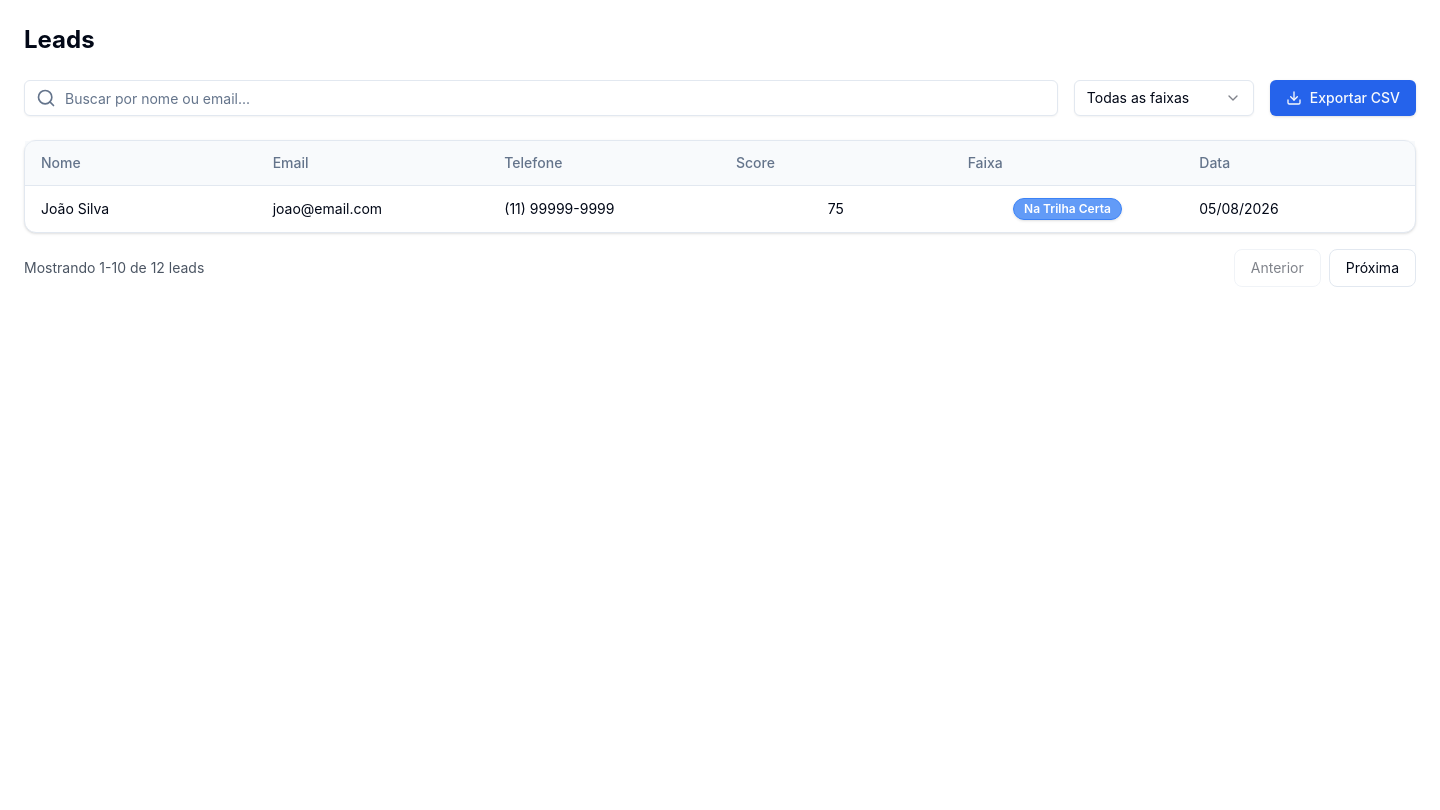
Test: AdminLeads › should open the details modal when a lead row is clicked
Click the text "João Silva": (75, 208) [25,186,257,232]
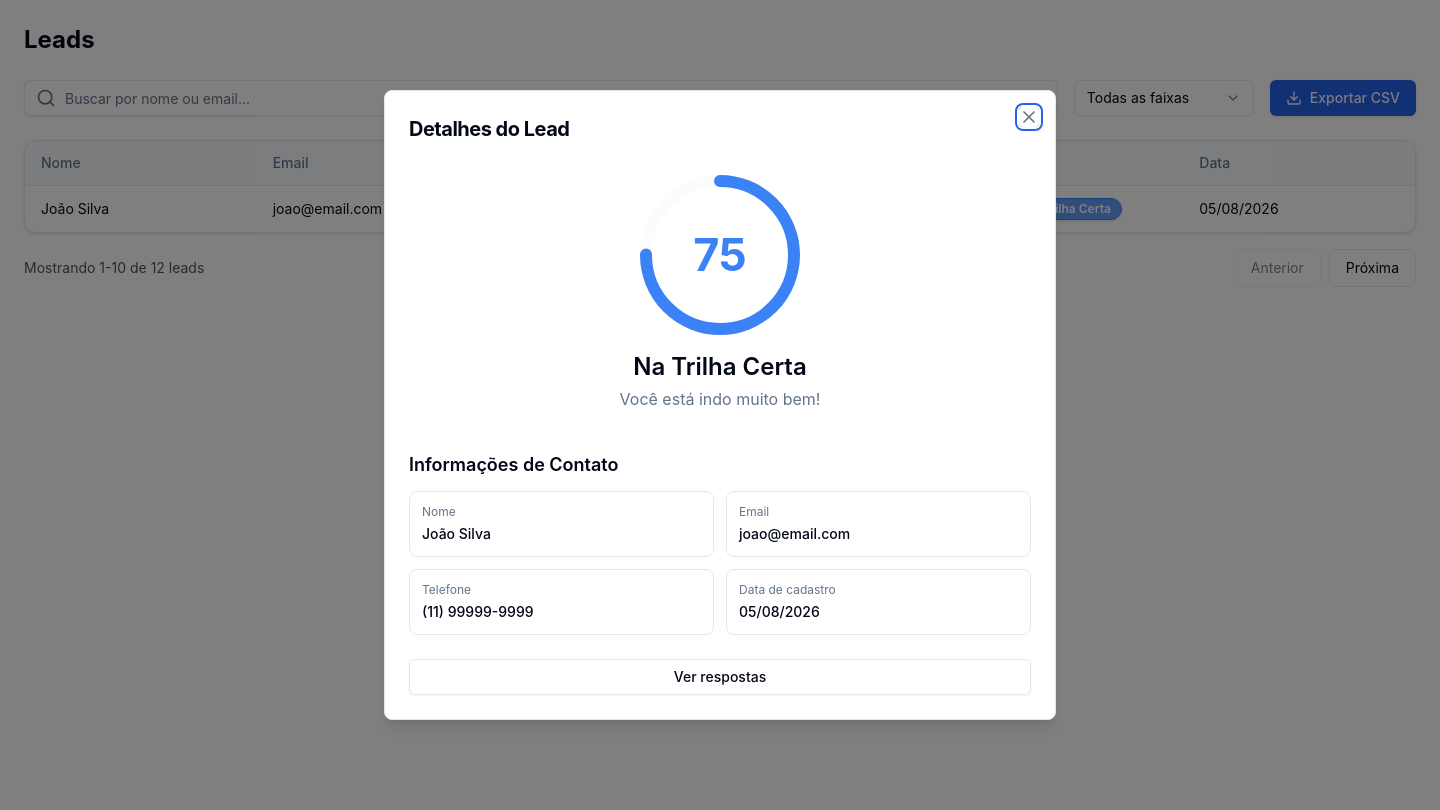
Expected: the text "joao@email.com" is shown, [257,186,488,232]
Result: the heading "Detalhes do Lead" is shown at [409,117,569,141]
